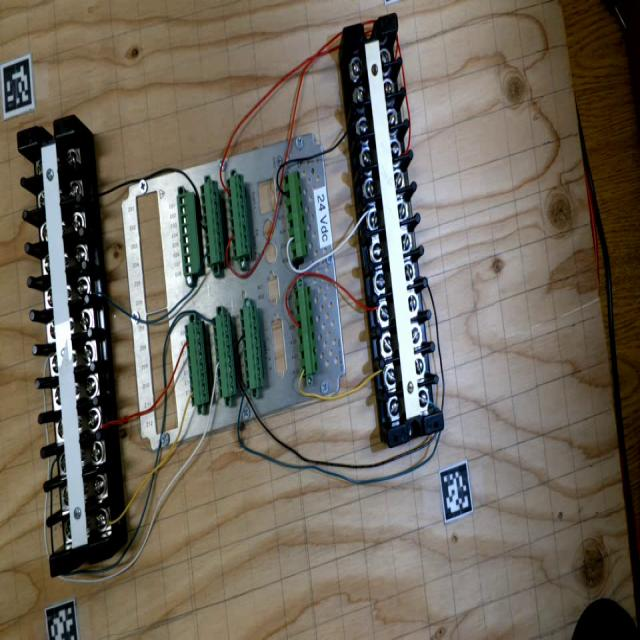Flathead_Block: (342, 13, 445, 446)
Phillips_Block: (16, 115, 111, 577)
Terminal_1: (293, 284, 319, 375), (283, 170, 309, 259)
Terminal_2: (212, 312, 237, 399), (239, 304, 264, 390), (200, 180, 225, 266), (185, 319, 209, 406), (226, 174, 251, 257)
